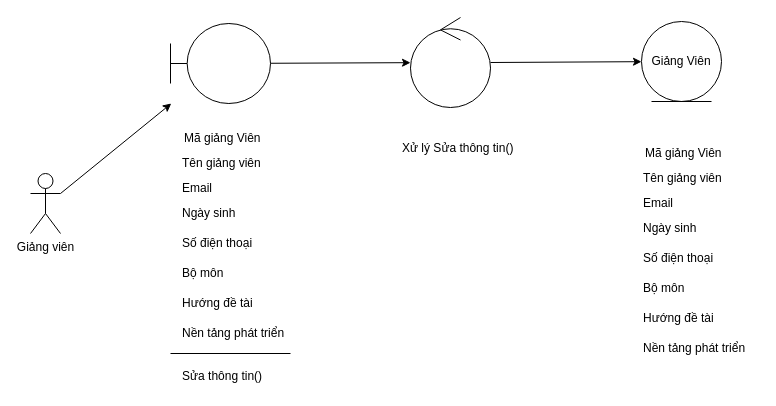
The diagram is 776 pixels wide and 406 high, and some of its shapes have lost their labels. The shapes that lost their labels are listed below. From the top down, each one's centre as x and y in pixels, then its label:
At point (220, 63): "GUI_Quản lý thông tin giảng viên".
At point (450, 62): "CTL_Giảng viên".
